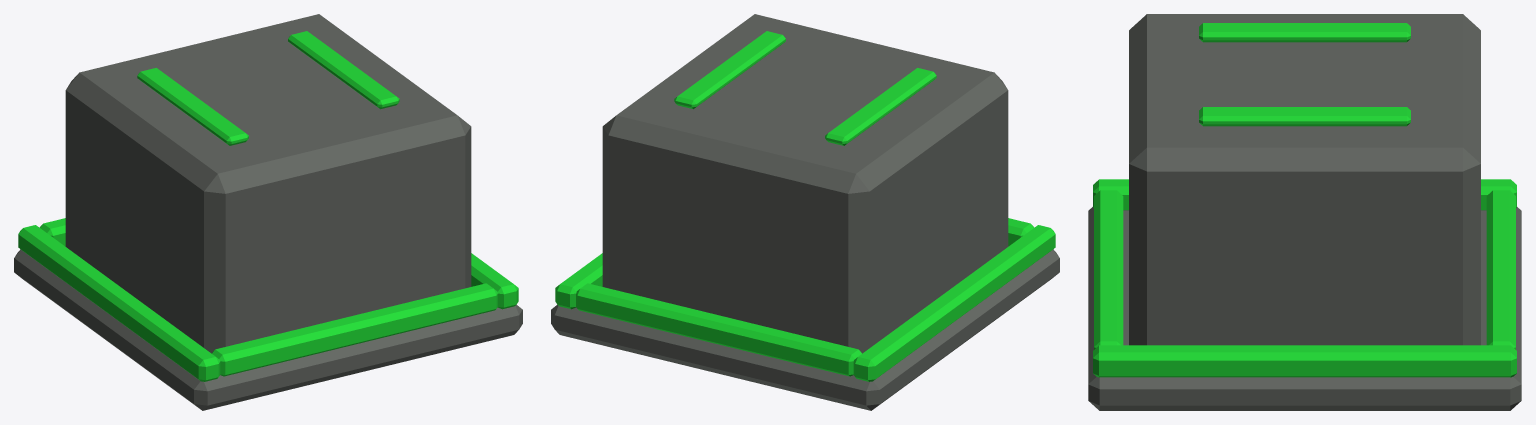
The model's file is terrain-toggle-closed.glb.
3 renders of one model, left to right at view 1: azimuth 30°, elevation 25°; view 2: azimuth 150°, elevation 25°; view 3: azimuth 270°, elevation 25°, orthographic. The views are drawn at different scales.
Parts seen in each view (by area): view 1: terrain-toggle-closed; view 2: terrain-toggle-closed; view 3: terrain-toggle-closed.
Part boxes in pixels (<box>): terrain-toggle-closed: <box>14,14,522,410</box>; terrain-toggle-closed: <box>551,14,1059,410</box>; terrain-toggle-closed: <box>1088,14,1521,410</box>.
Size of the model in its own units: 0.96 by 0.6225 by 0.96.
